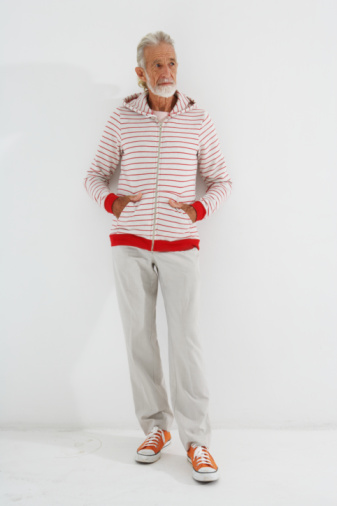em pe: (92, 18, 237, 487)
